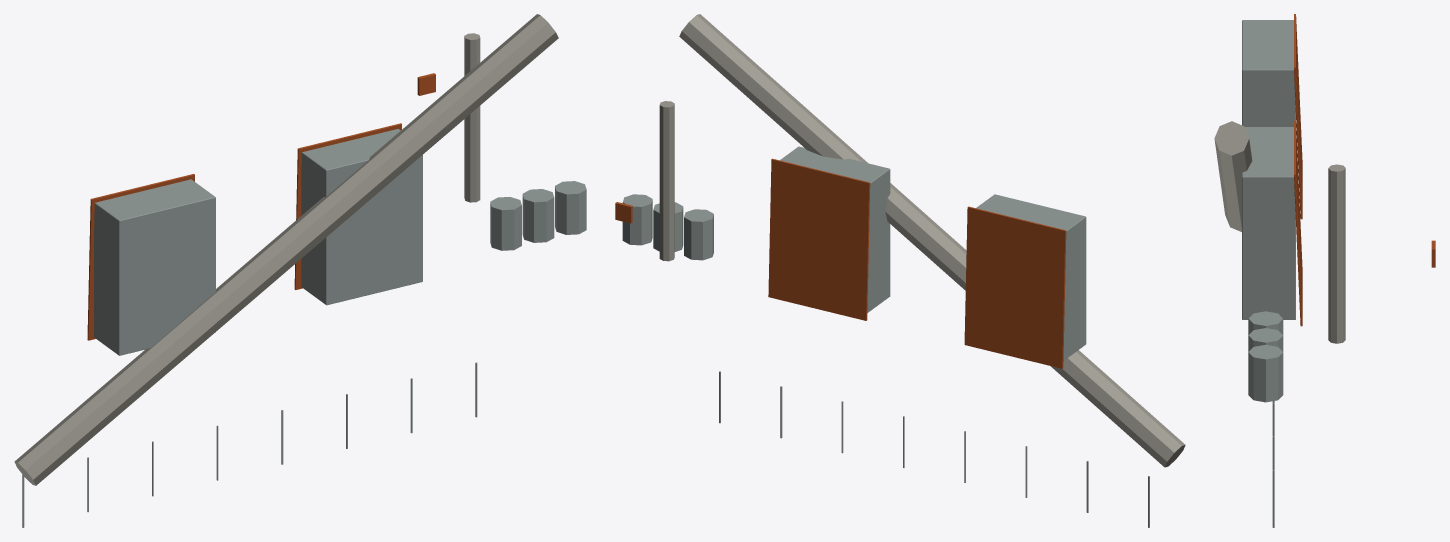
Rendered from pf_industrial_belt_district.glb.
3 renders of one model, left to right at view 1: azimuth 30°, elevation 25°; view 2: azimuth 150°, elevation 25°; view 3: azimuth 270°, elevation 25°, orthographic. The views are drawn at different scales.
Parts seen in each view (by area): view 1: service_road, nave_wall_0, nave_wall_1, chimney, tank_1, tank_0, tank_2, nave_roof_0, nave_roof_1; view 2: service_road, nave_roof_0, nave_roof_1, nave_wall_0, nave_wall_1, chimney, tank_0, tank_2, tank_1; view 3: nave_wall_1, nave_wall_0, chimney, service_road, tank_2, nave_roof_0, nave_roof_1, tank_0, tank_1.
Boxes of the visible parts, <box> form: service_road: <box>14,14,558,485</box>; nave_wall_0: <box>94,179,215,355</box>; nave_wall_1: <box>301,128,422,305</box>; chimney: <box>464,33,480,202</box>; tank_1: <box>522,189,554,242</box>; tank_0: <box>490,197,521,250</box>; tank_2: <box>555,181,586,234</box>; nave_roof_0: <box>87,174,194,340</box>; nave_roof_1: <box>294,123,401,289</box>; service_road: <box>679,14,1185,467</box>; nave_roof_0: <box>964,206,1066,368</box>; nave_roof_1: <box>768,158,870,320</box>; nave_wall_0: <box>976,194,1086,360</box>; nave_wall_1: <box>780,146,890,312</box>; chimney: <box>659,101,674,261</box>; tank_0: <box>684,209,713,260</box>; tank_2: <box>622,194,652,245</box>; tank_1: <box>653,202,683,251</box>; nave_wall_1: <box>1242,127,1295,319</box>; nave_wall_0: <box>1242,20,1295,126</box>; chimney: <box>1328,164,1345,343</box>; service_road: <box>1214,121,1252,231</box>; tank_2: <box>1248,344,1283,402</box>; nave_roof_0: <box>1294,14,1302,219</box>; nave_roof_1: <box>1294,121,1302,326</box>; tank_0: <box>1248,311,1283,334</box>; tank_1: <box>1248,328,1283,351</box>.
Bounding box in the file's own units: 89.33 × 59.89 × 27.95.
